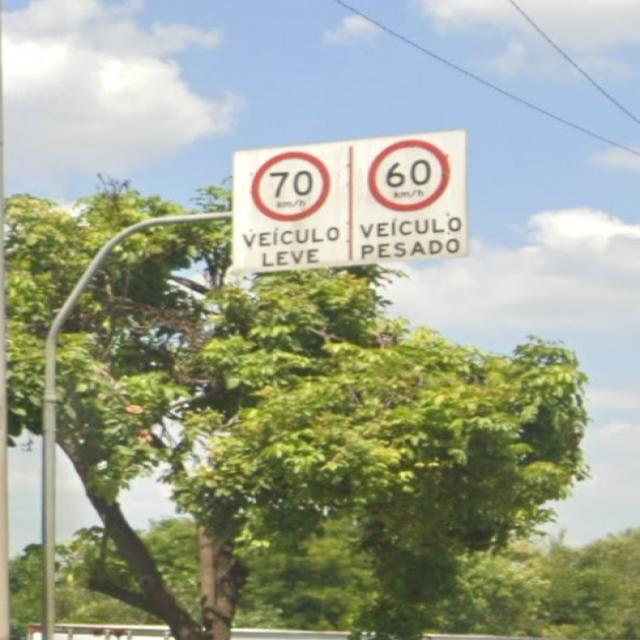speed limit: (200, 118, 499, 285)
